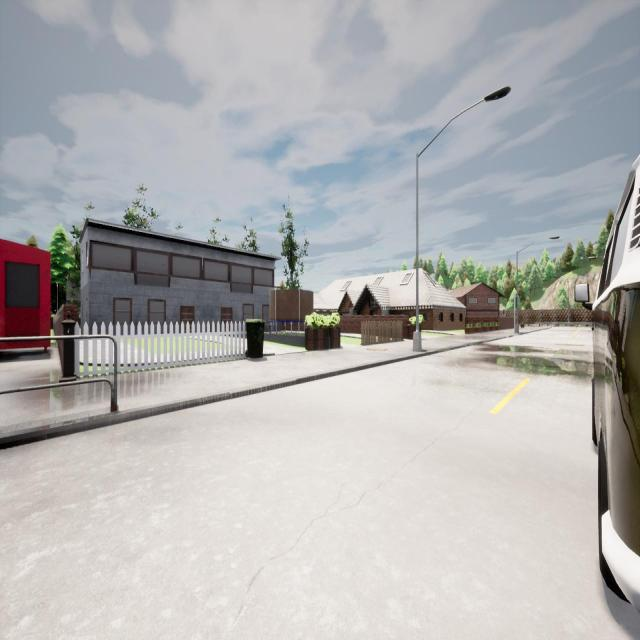Vehicle: (573, 154, 640, 610)
traffic_light: (514, 296, 517, 308), (503, 310, 505, 314)
